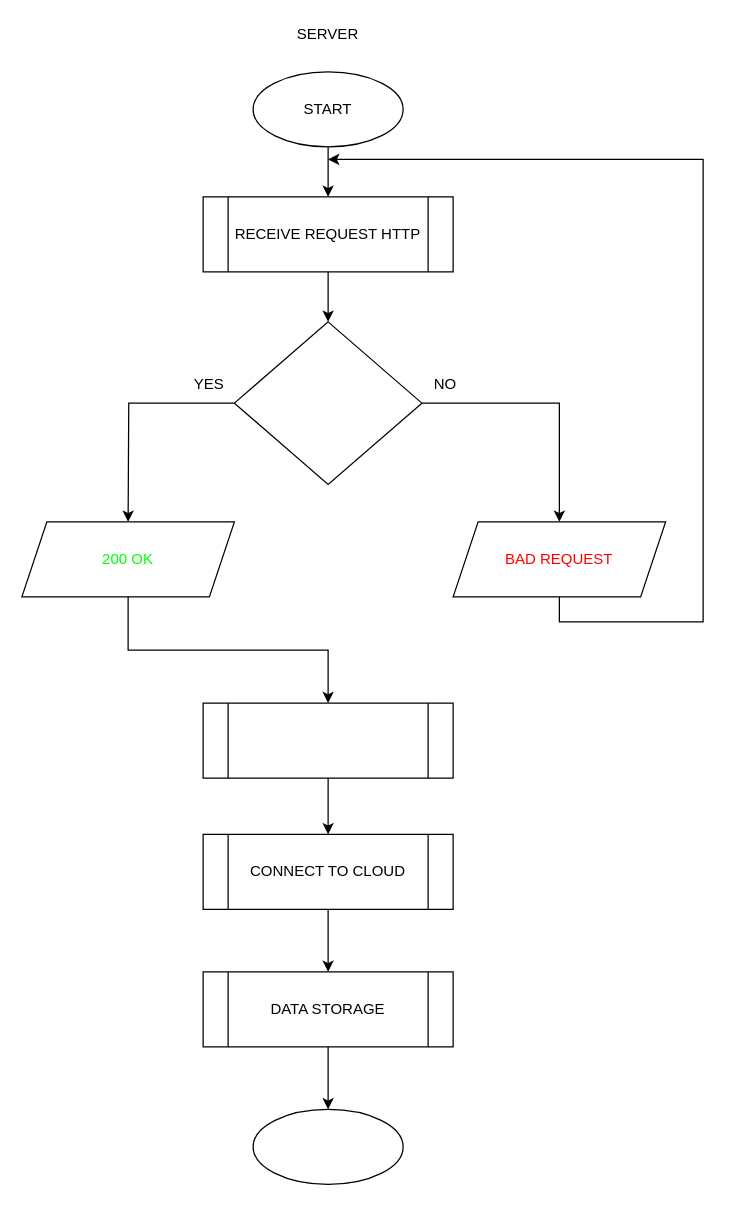
The diagram is 735 pixels wide and 1206 high, and some of its shapes have lost their labels. Each missing label, with the centre of its shape:
DATA PROCESSING: point (327, 740)
END: point (327, 1146)
REQUEST OK?: point (327, 402)
